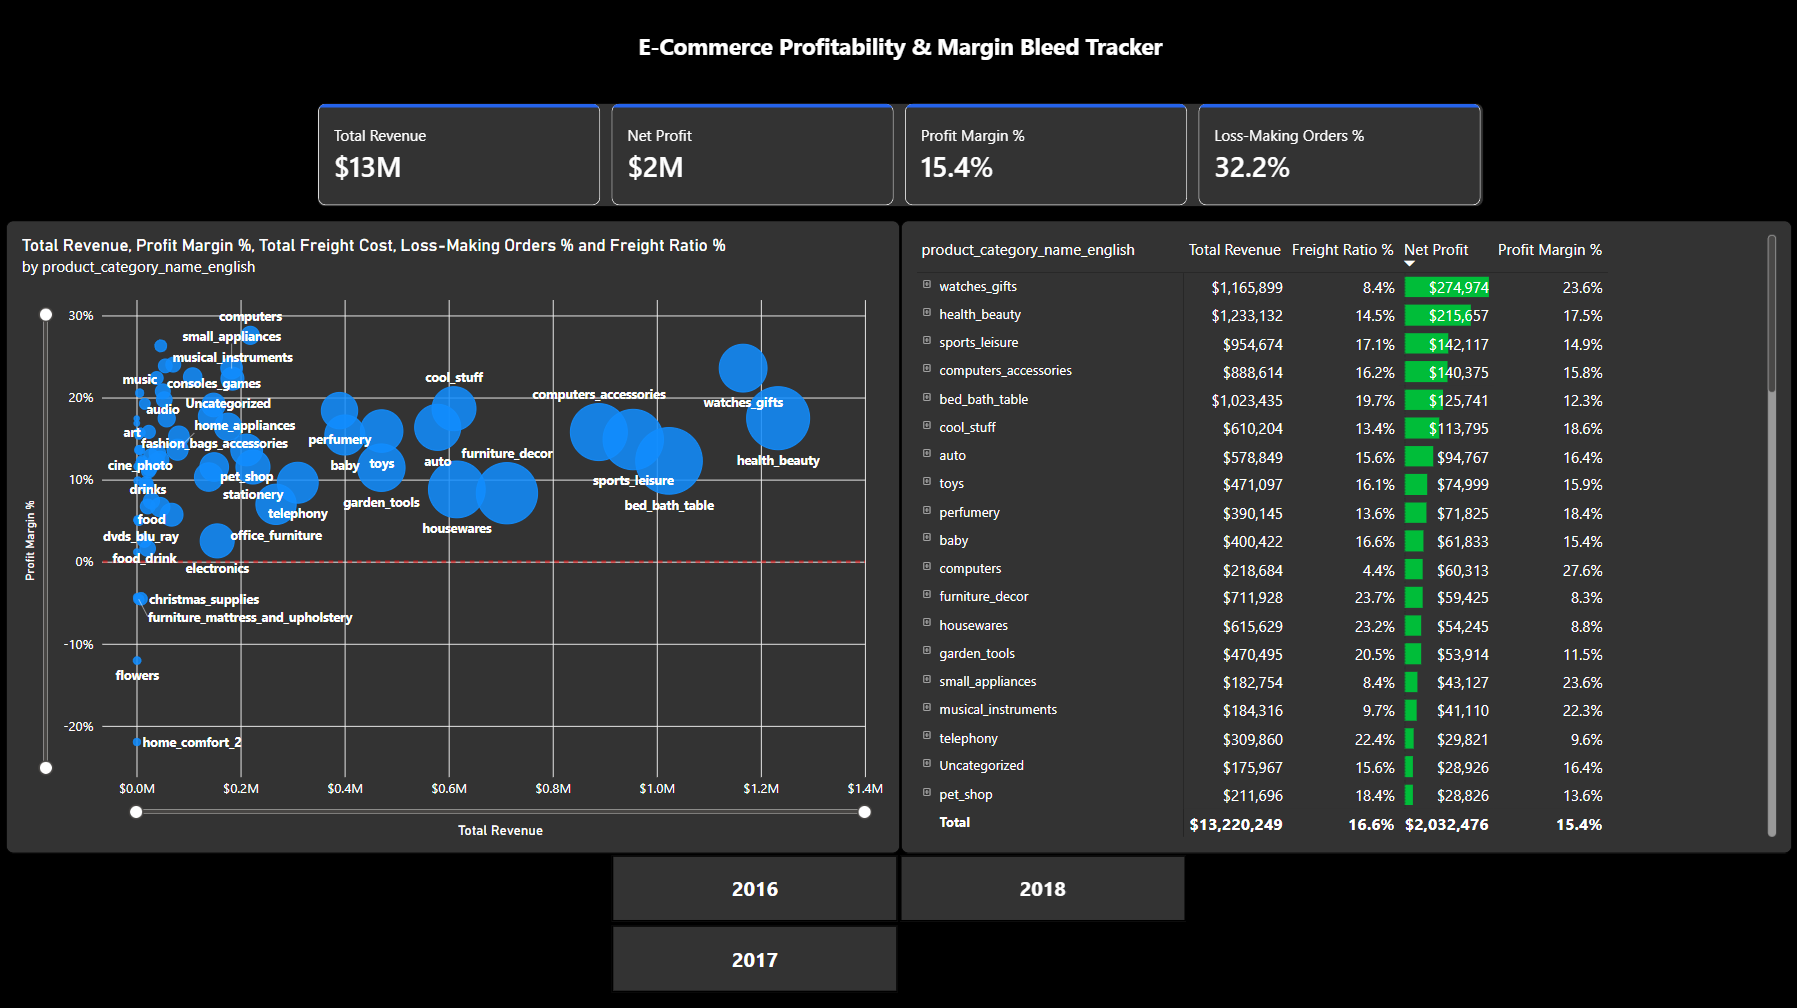

The page's visual inventory and layout, read from the dashboard file:
{"tool":"powerbi","page":{"name":"Margin & Freight Analysis","canvas":[1920,1080],"ordinal":0},"visuals":[{"type":"textbox","box":[543.5,34.6,835.9,50.5],"z":0},{"type":"scatterChart","fields":{"Category":["Dim_Products.product_category_name_english"],"Size":["_Measures.Total Freight Cost"],"X":["_Measures.Total Revenue"],"Y":["_Measures.Profit Margin %"]},"box":[10.6,236.5,950.2,672.4],"z":3},{"type":"pivotTable","fields":{"Rows":["Dim_Products.product_category_name_english","Dim_Products.product_id"],"Values":["_Measures.Total Revenue","_Measures.Freight Ratio %","_Measures.Net Profit","_Measures.Profit Margin %"]},"box":[962.1,236.5,947.5,672.4],"z":4},{"type":"slicer","fields":{"Values":["Dim_Calendar.Year"]},"box":[633.9,909,650,150],"z":5},{"type":"cardVisual","fields":{"Data":["_Measures.Total Revenue","_Measures.Net Profit","_Measures.Profit Margin %","_Measures.Loss-Making Orders %"]},"box":[341.5,111.6,1240,110],"z":6}]}

Visuals, with their boxes in screenshot pixels (x1, y1, x2, y2), scaled from the page's 1920x1080 canvas onto the 1797x1008 screenshot:
textbox: 509:32:1291:79
scatterChart - Dim_Products.product_category_name_english x _Measures.Total Freight Cost: 10:221:899:848
pivotTable - Dim_Products.product_category_name_english x Dim_Products.product_id: 900:221:1787:848
slicer - Dim_Calendar.Year: 593:848:1202:988
cardVisual - _Measures.Total Revenue x _Measures.Net Profit: 320:104:1480:207
